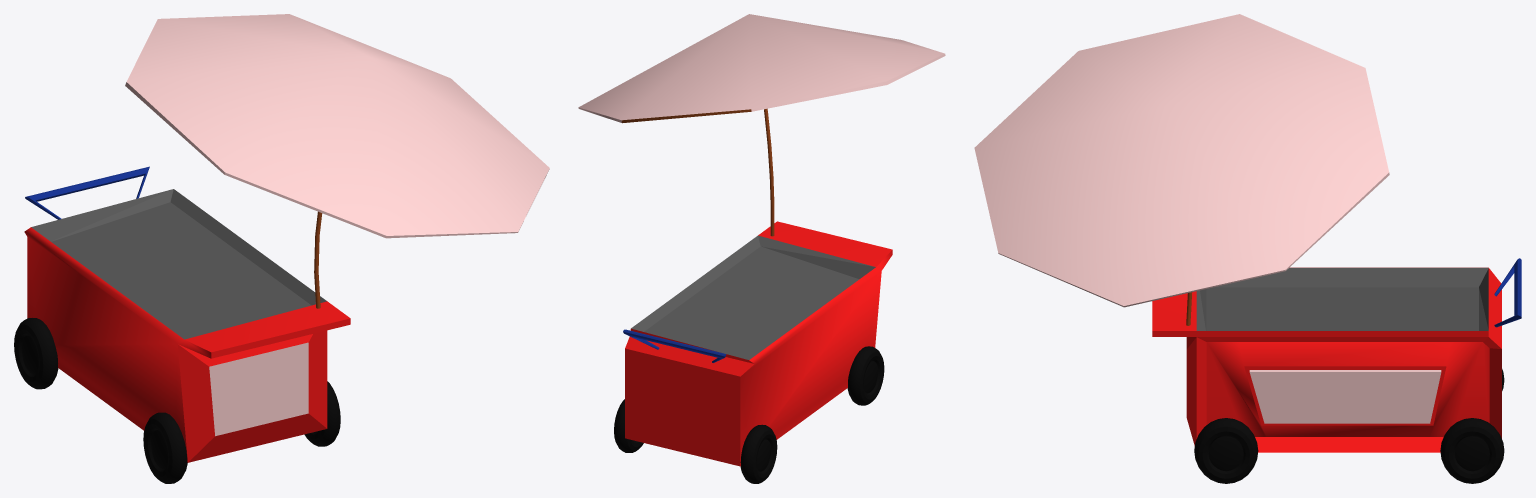
File: stand.FBX
3 views of the same model, side by side, from view 1: azimuth 30°, elevation 25°; view 2: azimuth 150°, elevation 25°; view 3: azimuth 270°, elevation 25° (orthographic). The views are drawn at different scales.
Visible parts, largest first — view 1: Stand; view 2: Stand; view 3: Stand.
Boxes of the visible parts, <box> form: Stand: <box>14,14,549,483</box>; Stand: <box>578,14,945,483</box>; Stand: <box>974,14,1521,483</box>.
Size of the model in its own units: 35.48 by 37.79 by 48.58.
